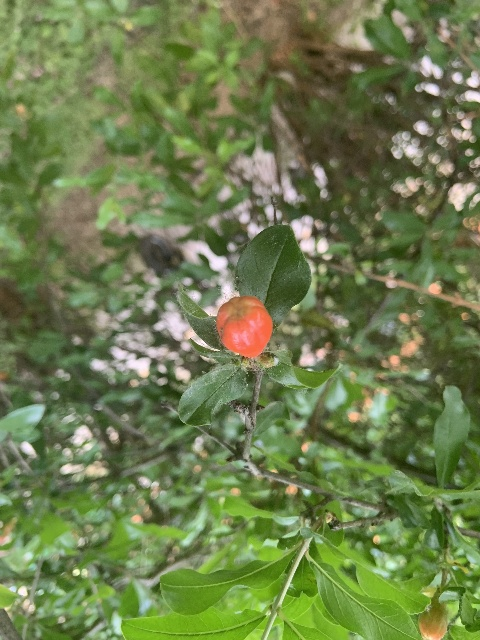bud: (216, 295, 272, 357)
